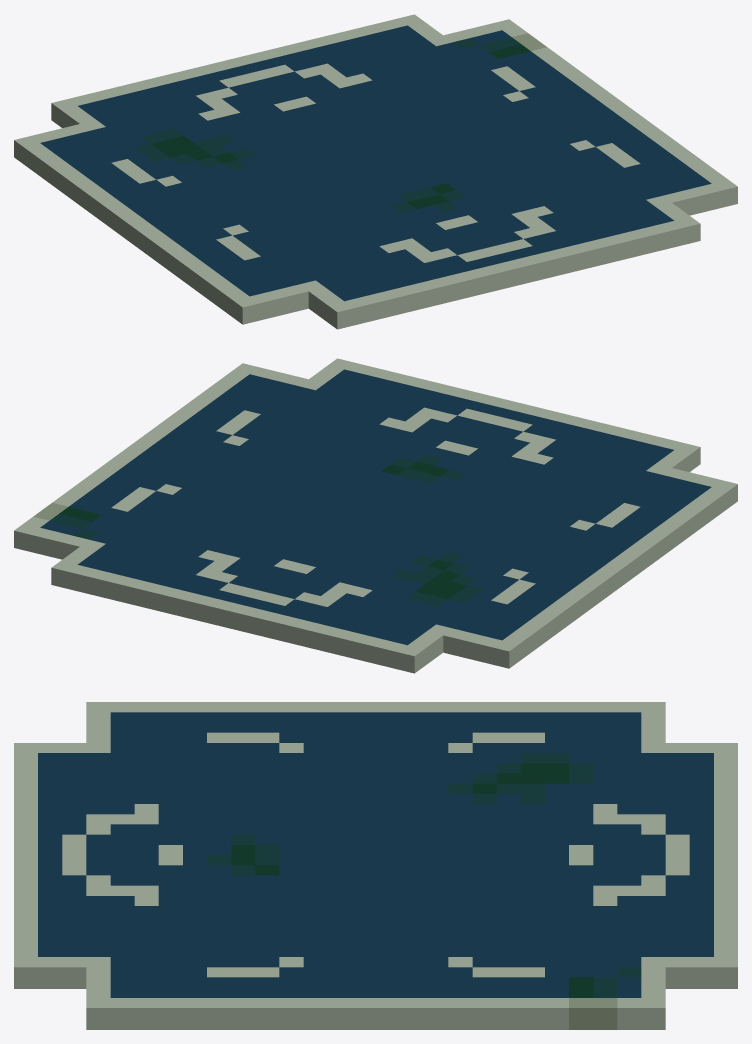
The model's file is BlueRug_02.obj.
The picture shows the model from 3 angles, top to bottom: view 1: azimuth 30°, elevation 25°; view 2: azimuth 150°, elevation 25°; view 3: azimuth 270°, elevation 25°; orthographic projection. The views are drawn at different scales.
Parts seen in each view (by area): view 1: BlueRug_02.001; view 2: BlueRug_02.001; view 3: BlueRug_02.001.
Boxes of the visible parts, left/top/right/bottom form: BlueRug_02.001: left=14, top=14, right=737, bottom=329; BlueRug_02.001: left=14, top=358, right=737, bottom=673; BlueRug_02.001: left=14, top=702, right=737, bottom=1029.
Bounding box in the file's own units: 3 × 0.1 × 3.
